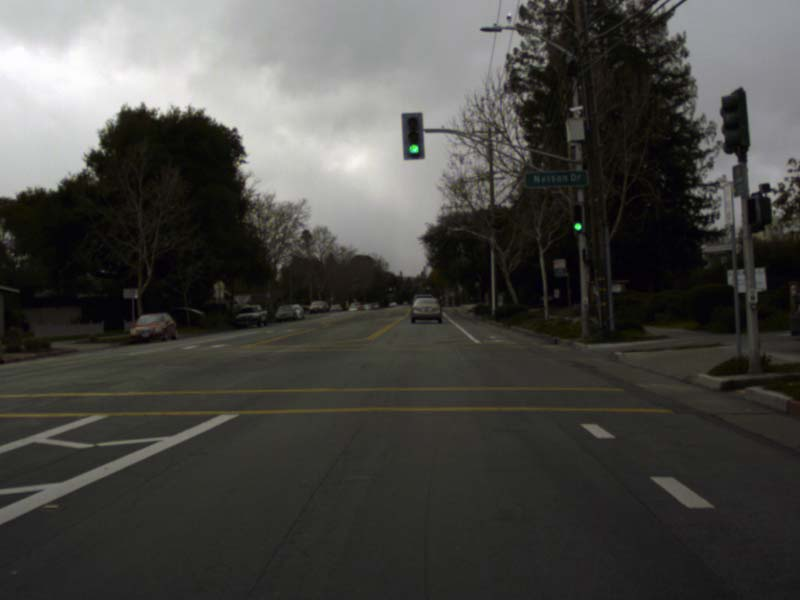Green: (401, 112, 424, 158), (572, 204, 583, 231), (422, 283, 426, 291)
